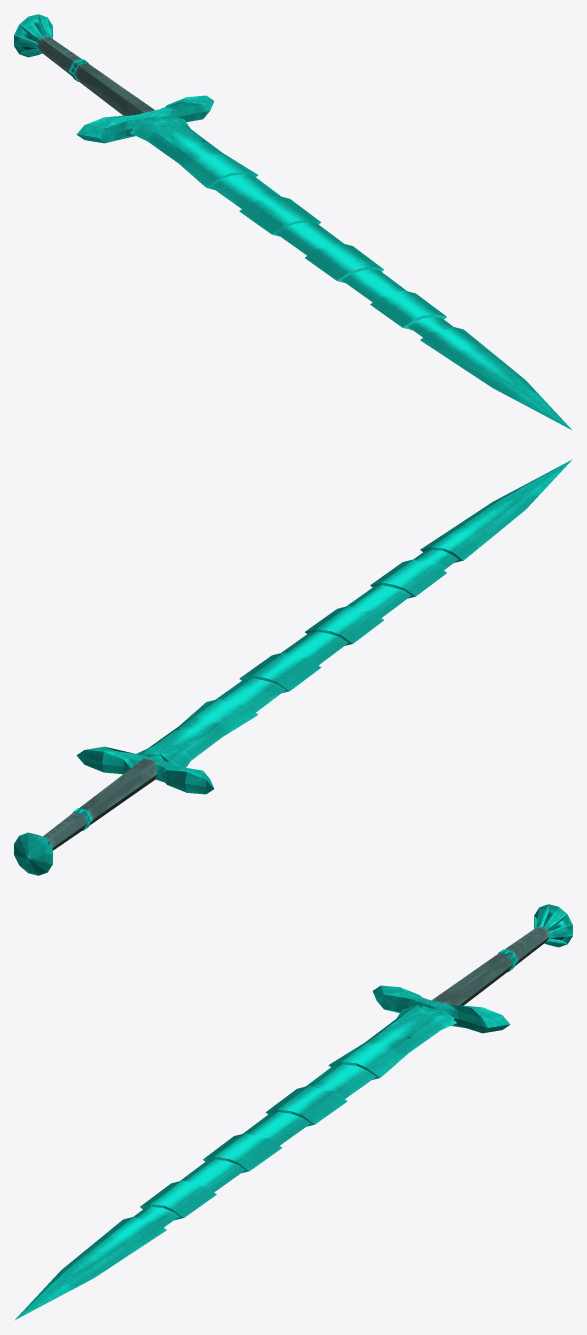
File: cyanlegendsword.fbx
The picture shows the model from 3 angles, top to bottom: view 1: azimuth 30°, elevation 25°; view 2: azimuth 150°, elevation 25°; view 3: azimuth 330°, elevation 25°; orthographic projection.
Visible parts, largest first — view 1: blade, hilt, crossguard, cone; view 2: blade, hilt, crossguard, cone; view 3: blade, hilt, crossguard, cone.
Boxes of the visible parts, x1=… form: blade: x1=130, y1=115, x2=572, y2=430; hilt: x1=36, y1=36, x2=154, y2=115; crossguard: x1=76, y1=95, x2=213, y2=143; cone: x1=14, y1=14, x2=52, y2=57; blade: x1=136, y1=459, x2=572, y2=767; hilt: x1=43, y1=758, x2=157, y2=850; crossguard: x1=76, y1=746, x2=213, y2=794; cone: x1=14, y1=832, x2=52, y2=875; blade: x1=14, y1=1005, x2=456, y2=1320; hilt: x1=432, y1=926, x2=550, y2=1005; crossguard: x1=373, y1=985, x2=510, y2=1033; cone: x1=534, y1=904, x2=572, y2=947.
Bounding box in the file's own units: 266 × 75 × 1819.
1 material, 1 textured.
